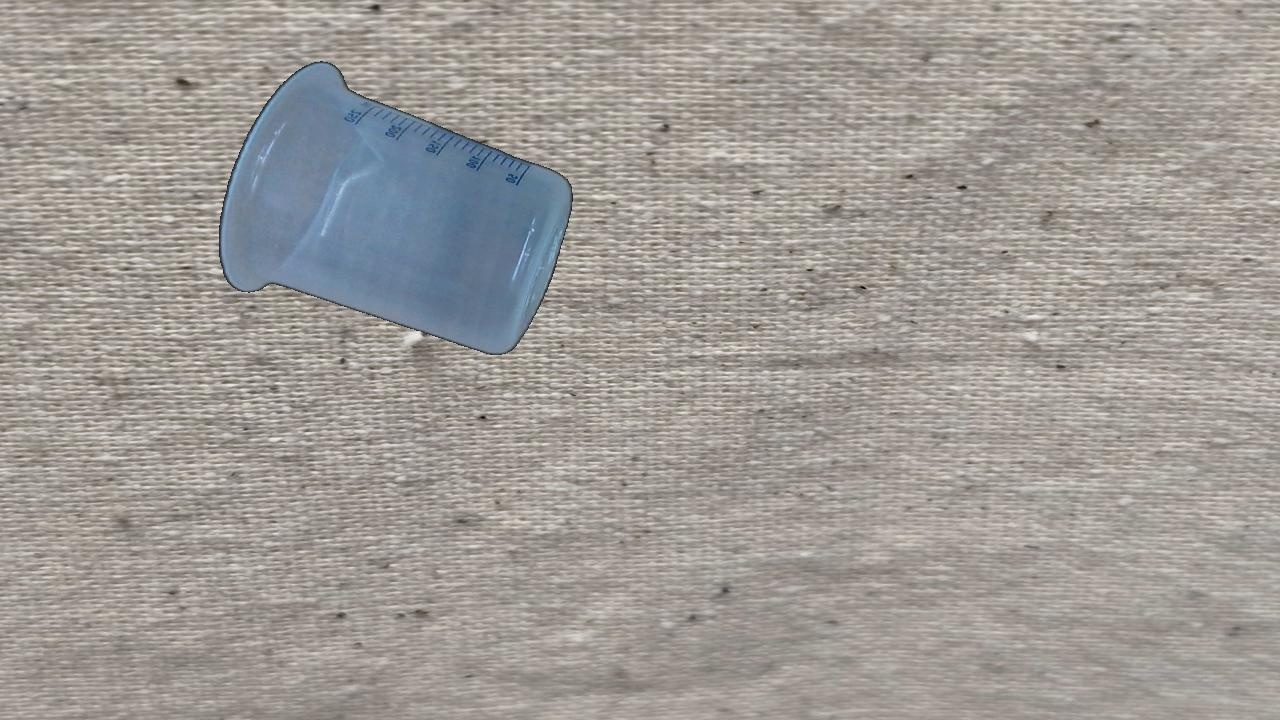becker: (216, 59, 573, 358)
